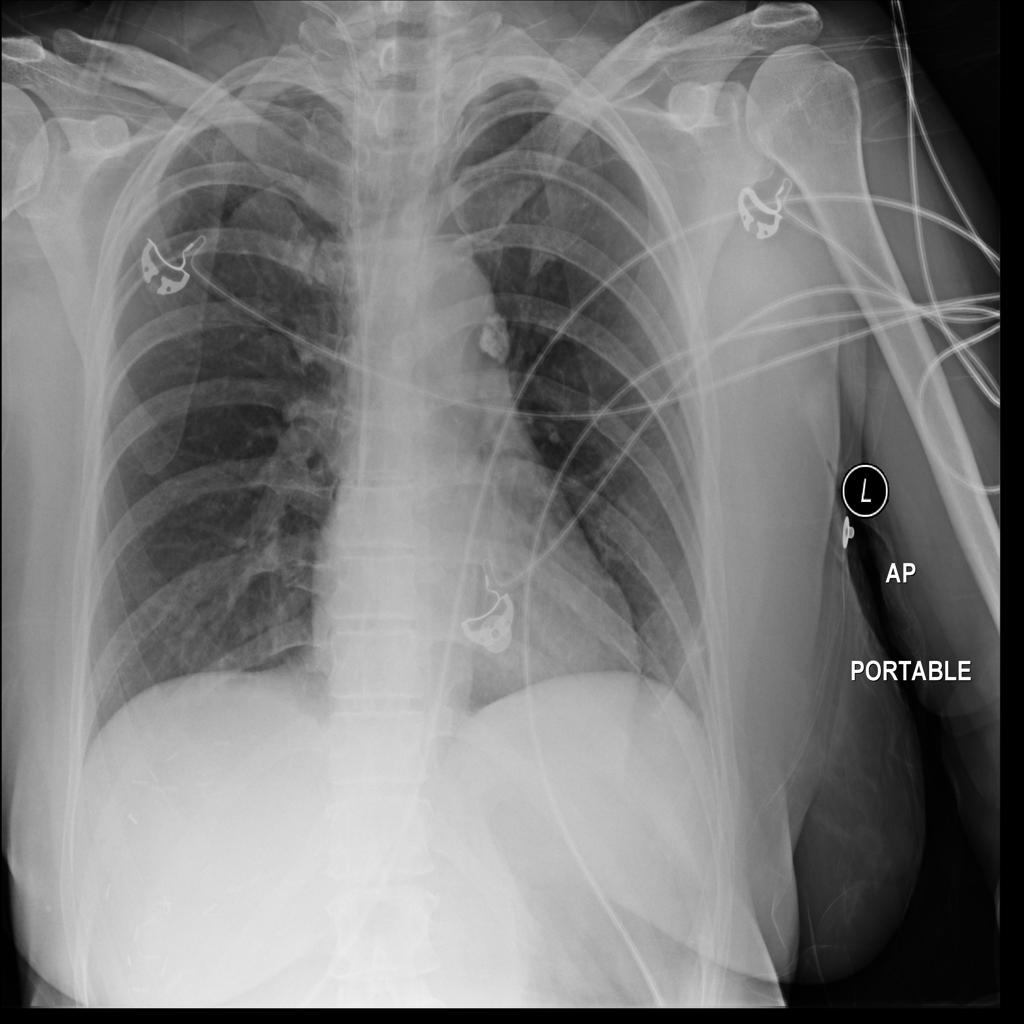nodule: (465, 295, 526, 373)
